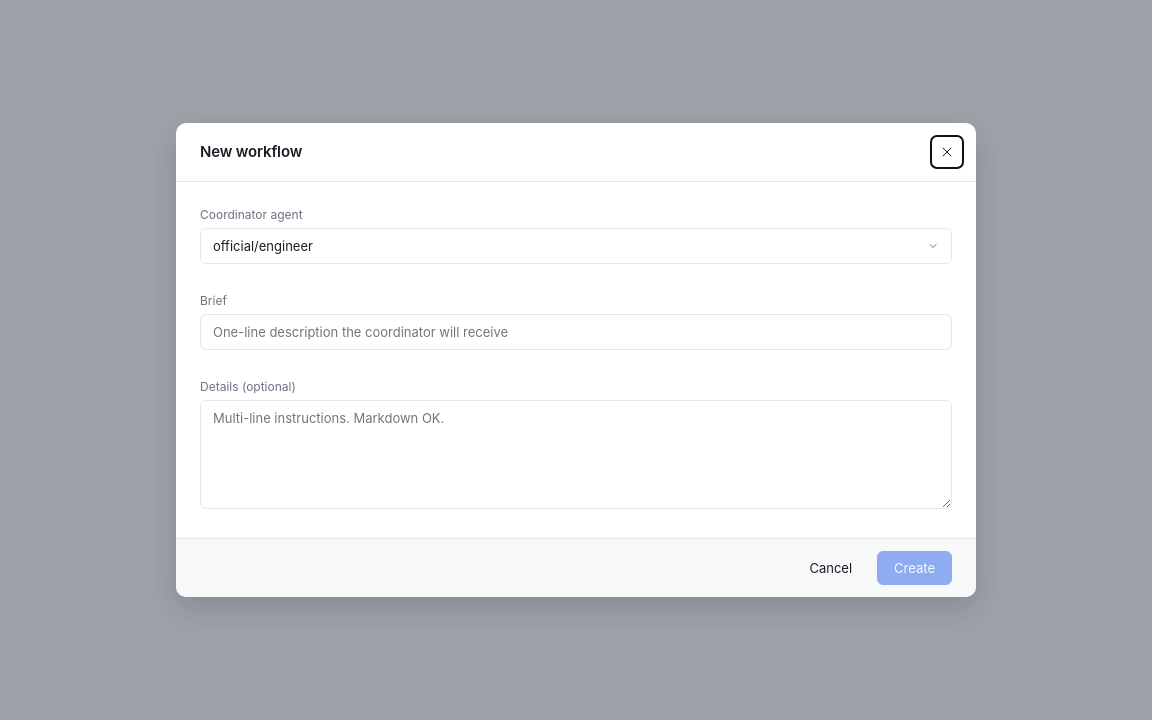
Test: CreateWorkflowModal — submit body › surfaces a submit error inline without closing the modal
The image size is (1152, 720).
Type "Plan it" into the field with test id "create-workflow-brief" at (576, 332), box [200,314,952,350]
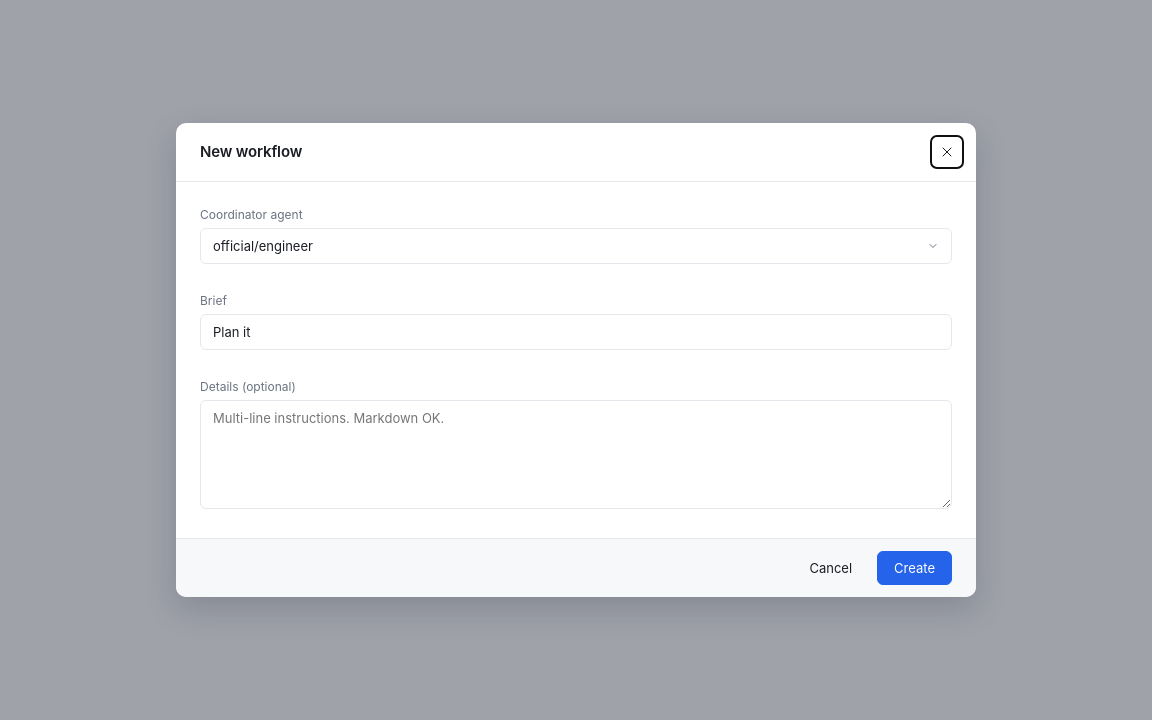
Click the button with test id "create-workflow-submit" at (915, 568), box [877,551,952,585]
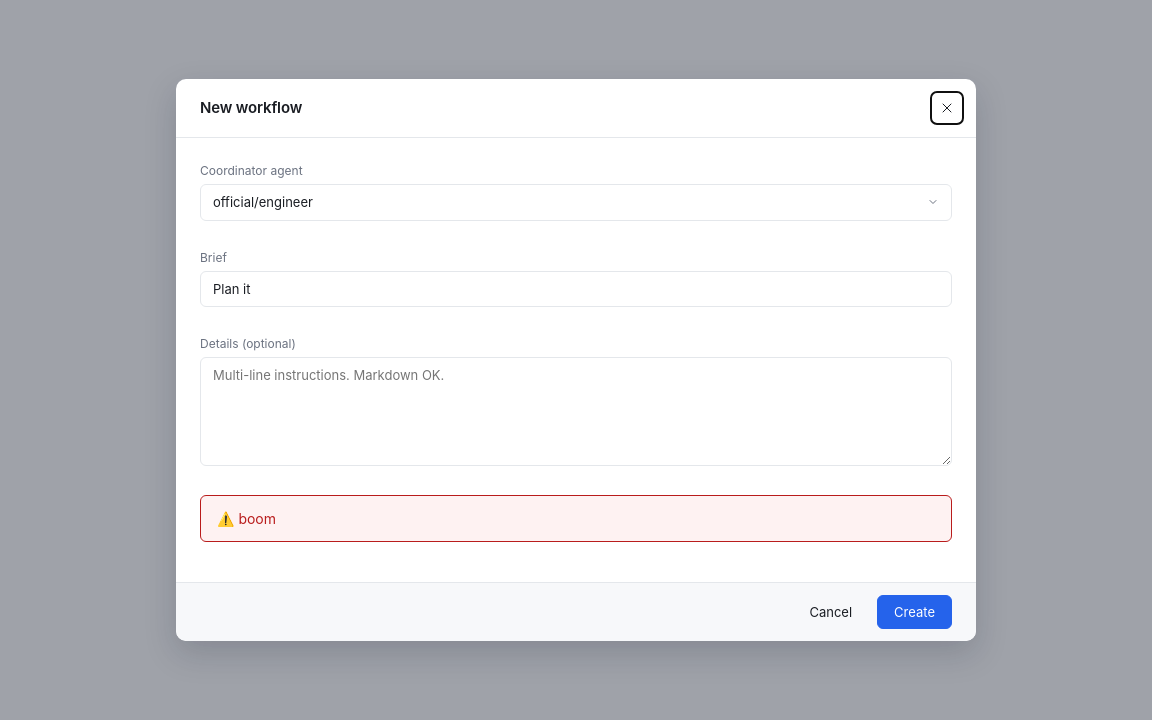
Expected: the text with test id "create-workflow-submit-error" shows "boom", [238,510,276,527]
